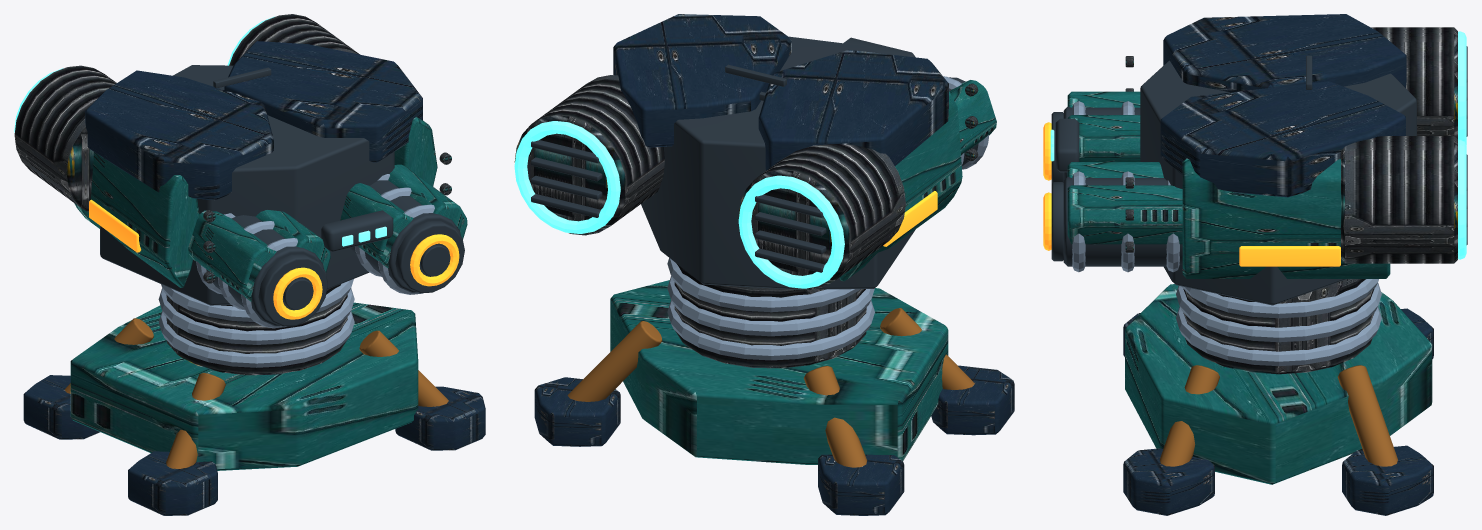
Rendered from sector_04_3.glb.
3 renders of one model, left to right at view 1: azimuth 30°, elevation 25°; view 2: azimuth 150°, elevation 25°; view 3: azimuth 270°, elevation 25°, orthographic. The views are drawn at different scales.
Parts seen in each view (by area): view 1: Turret hex anchor, Splayed planted foot, Sloped rotating gun mantle, Rotating actuator, Turntable bearing, Anchoring hydraulic, Muzzle lens ring, Pressure seal; view 2: Splayed planted foot, Turret hex anchor, Rotating actuator, Sloped rotating gun mantle, Turntable bearing, Pressure seal, Anchoring hydraulic, Muzzle lens ring; view 3: Turret hex anchor, Splayed planted foot, Rotating actuator, Sloped rotating gun mantle, Turntable bearing, Anchoring hydraulic, Muzzle lens ring, Pressure seal.
Boxes of the visible parts, x1,y1,x2,y2 form: Turret hex anchor: [70, 117, 467, 470]; Splayed planted foot: [23, 41, 485, 515]; Sloped rotating gun mantle: [100, 65, 464, 326]; Rotating actuator: [14, 14, 451, 375]; Turntable bearing: [158, 174, 434, 367]; Anchoring hydraulic: [64, 318, 448, 468]; Muzzle lens ring: [89, 199, 459, 319]; Pressure seal: [14, 16, 386, 246]; Splayed planted foot: [534, 14, 1014, 515]; Turret hex anchor: [610, 80, 996, 464]; Rotating actuator: [514, 75, 978, 368]; Sloped rotating gun mantle: [531, 36, 978, 289]; Turntable bearing: [667, 76, 989, 360]; Pressure seal: [514, 121, 844, 288]; Anchoring hydraulic: [567, 308, 974, 467]; Muzzle lens ring: [883, 191, 937, 246]; Turret hex anchor: [1067, 91, 1432, 484]; Splayed planted foot: [1123, 14, 1433, 515]; Rotating actuator: [1125, 27, 1457, 374]; Sloped rotating gun mantle: [1051, 46, 1467, 305]; Turntable bearing: [1072, 101, 1381, 366]; Anchoring hydraulic: [1159, 365, 1397, 466]; Muzzle lens ring: [1043, 122, 1340, 266]; Pressure seal: [1050, 31, 1466, 259].
Bounding box in the file's own units: 1.1 × 1.05 × 1.12.
8 materials, 3 textured.
